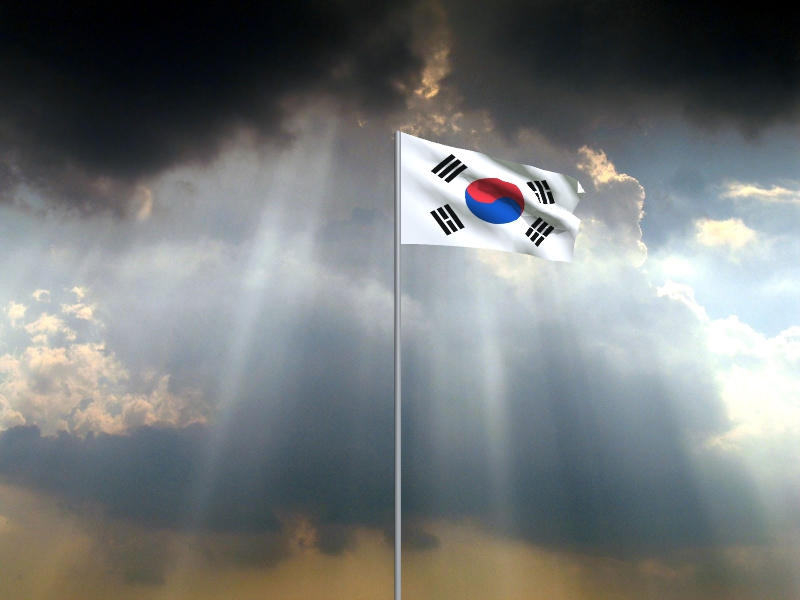kr: (401, 133, 587, 265)
